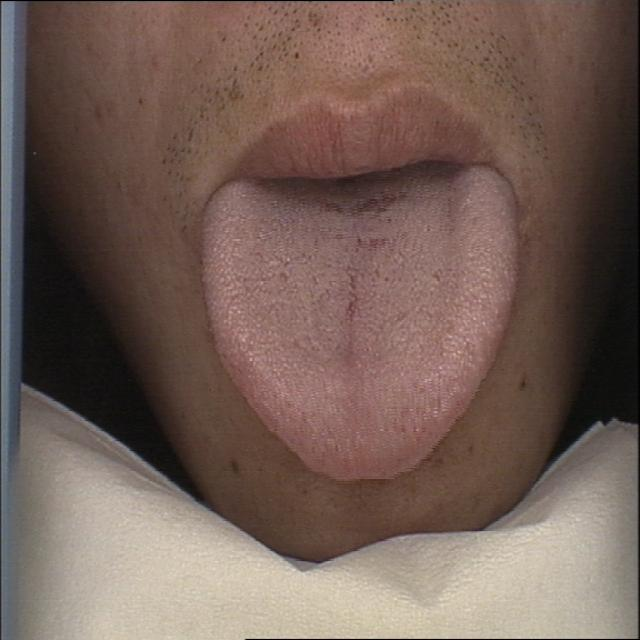tongue: (190, 172, 530, 486)
